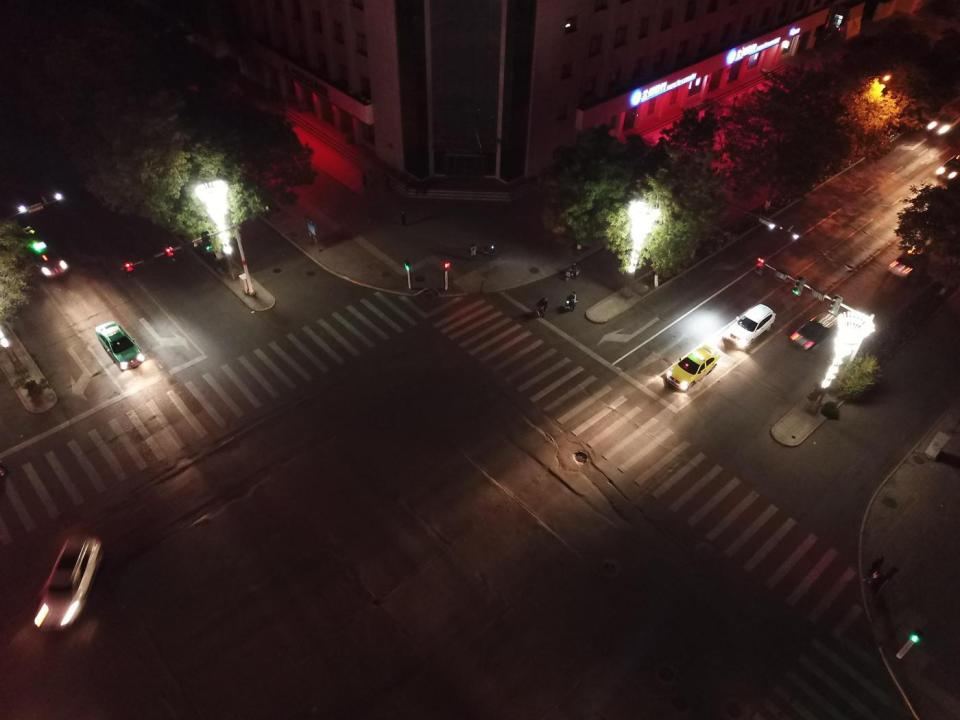car: (35, 533, 99, 631), (96, 320, 144, 371), (722, 304, 775, 349), (663, 348, 718, 390), (23, 237, 69, 280), (790, 311, 837, 350), (887, 238, 932, 278), (927, 103, 959, 136), (937, 154, 959, 184)
